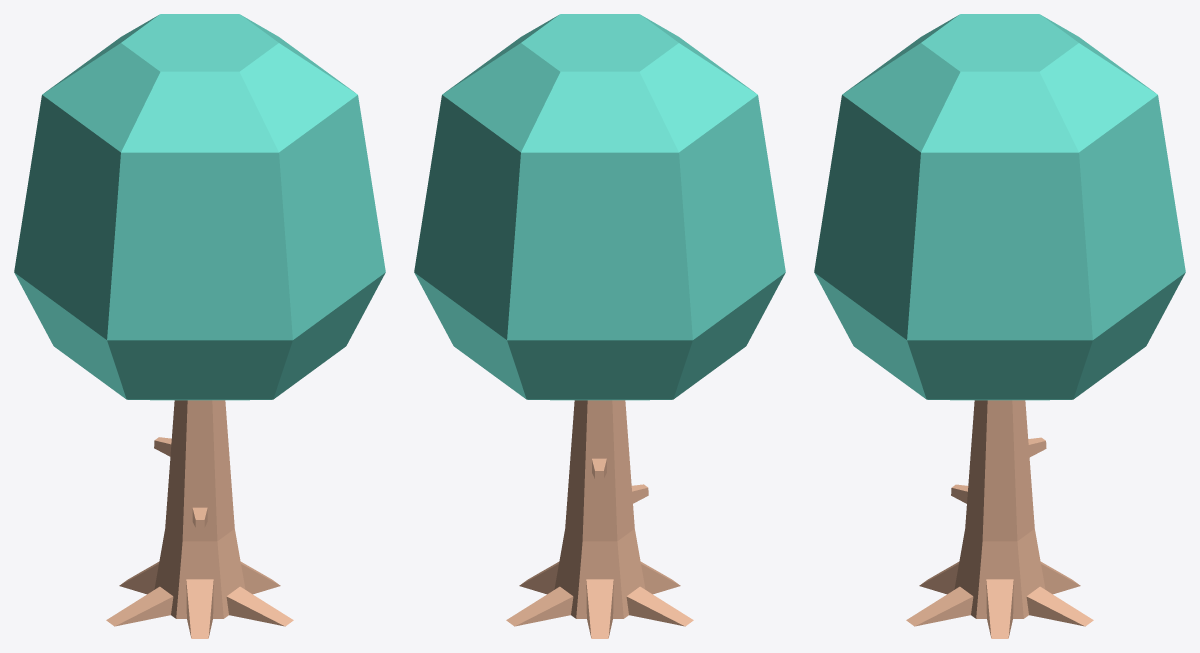
The model's file is tree.glb.
The picture shows the model from 3 angles, left to right: view 1: azimuth 30°, elevation 25°; view 2: azimuth 150°, elevation 25°; view 3: azimuth 270°, elevation 25°; orthographic projection.
Visible parts, largest first — view 1: tree_oak; view 2: tree_oak; view 3: tree_oak.
Boxes of the visible parts, x1,y1,x2,y2 form: tree_oak: [14, 14, 385, 638]; tree_oak: [414, 14, 785, 638]; tree_oak: [814, 14, 1185, 638].
Bounding box in the file's own units: 0.6406 × 1.23 × 0.7396.
